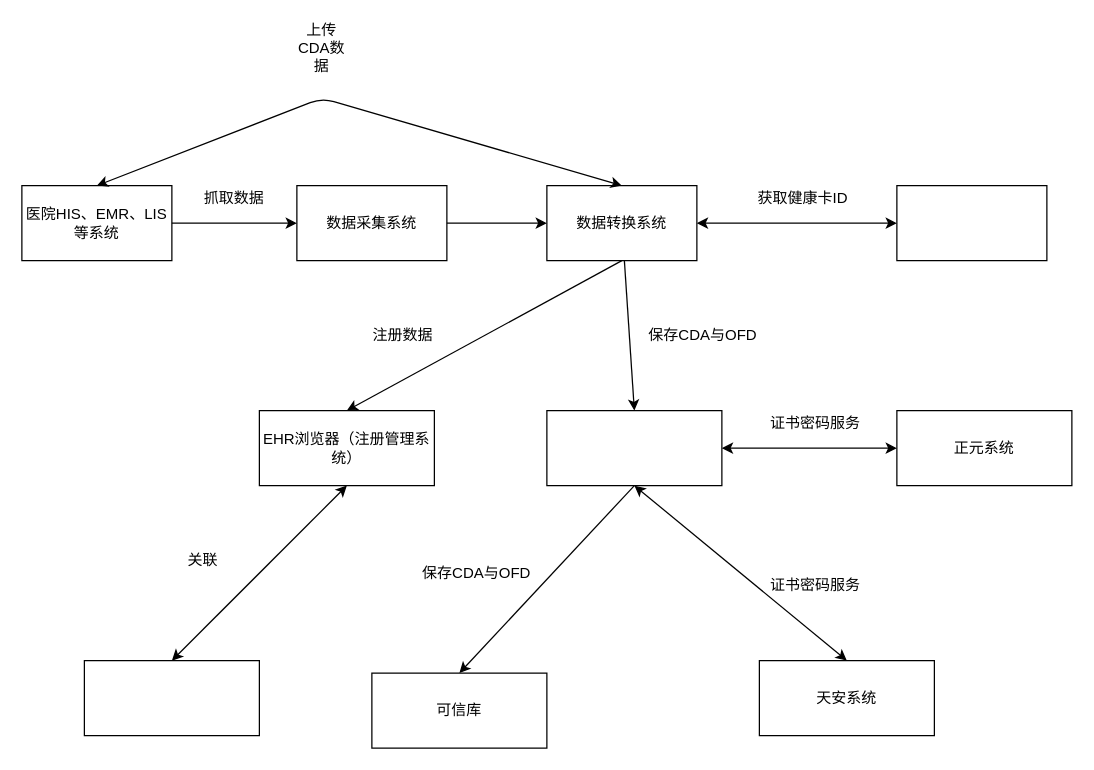
Some shapes in this 1094 by 770 pixel diagram are drawn without their labels. Here are the shapes that lost their labels. From the top down, the box of each, then its label:
(896, 184, 1047, 261): 电子健康卡
(546, 409, 722, 486): 可信数据安全服务系统
(83, 659, 259, 736): 用户，权限中台
